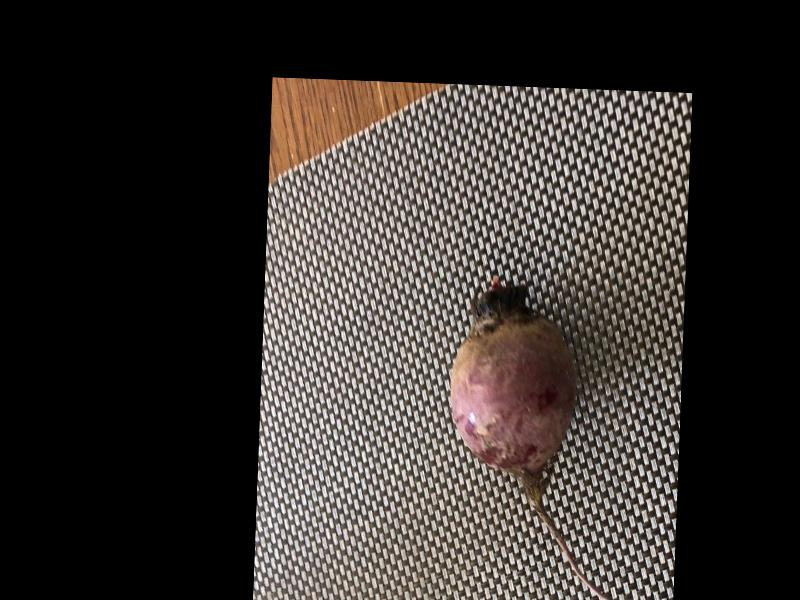Beet: (443, 273, 631, 600)
